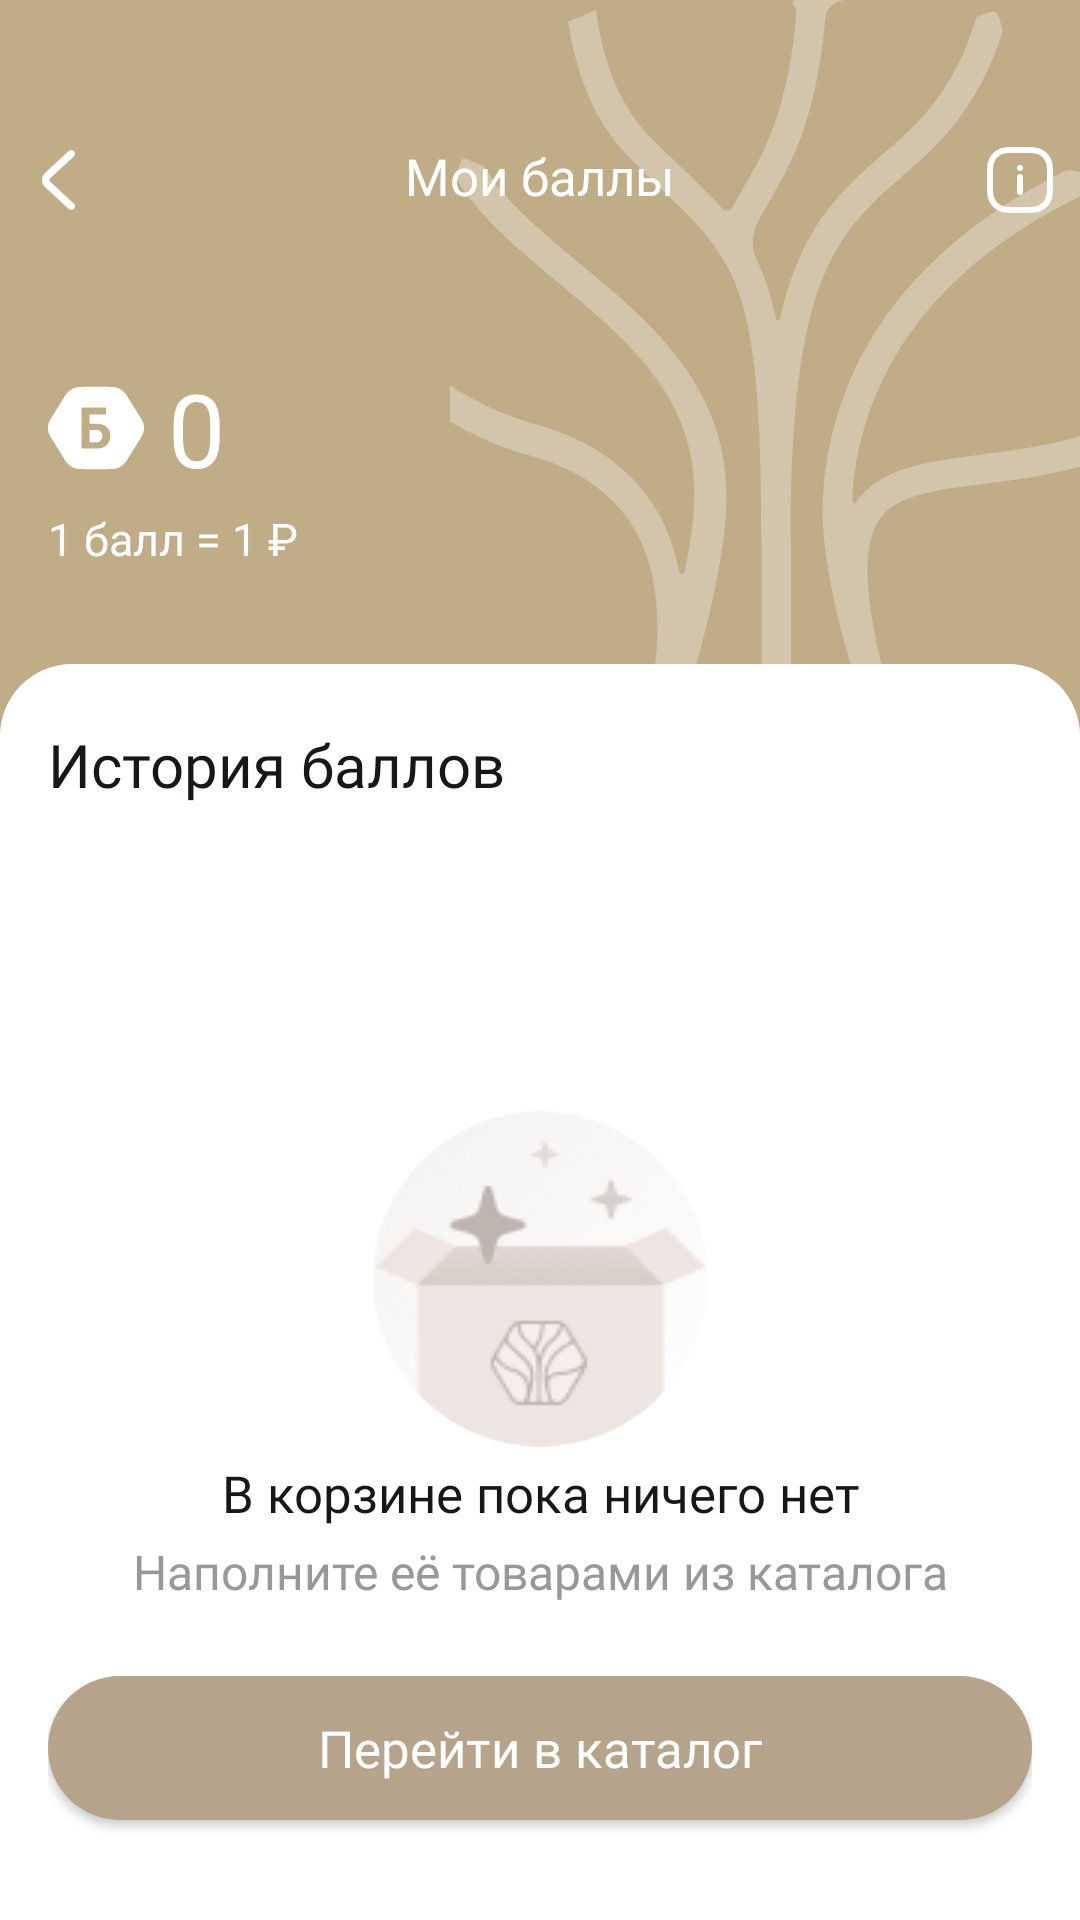

Icons on this 1080px x 1920px Android screen, each with the point to tap as (x,y):
back: (58,180)
info: (1020,193)
